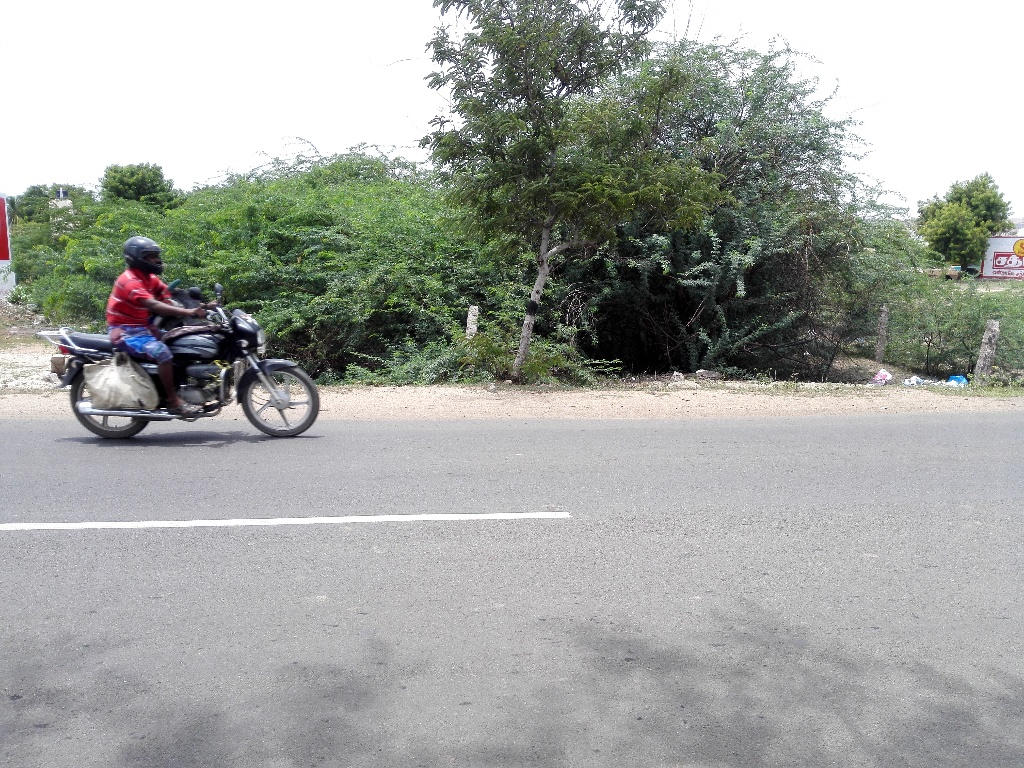biker: (36, 185, 336, 467)
helmet: (115, 227, 175, 290)
